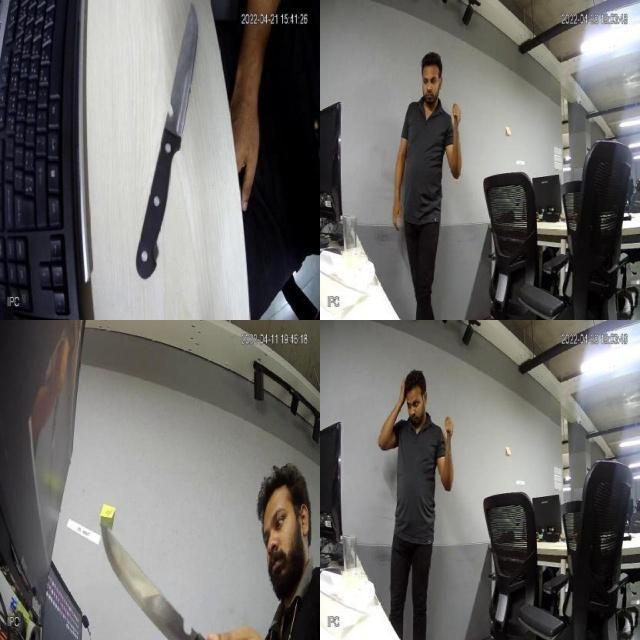-: (133, 3, 199, 283), (99, 516, 205, 639), (444, 426, 453, 454), (454, 108, 460, 137)
